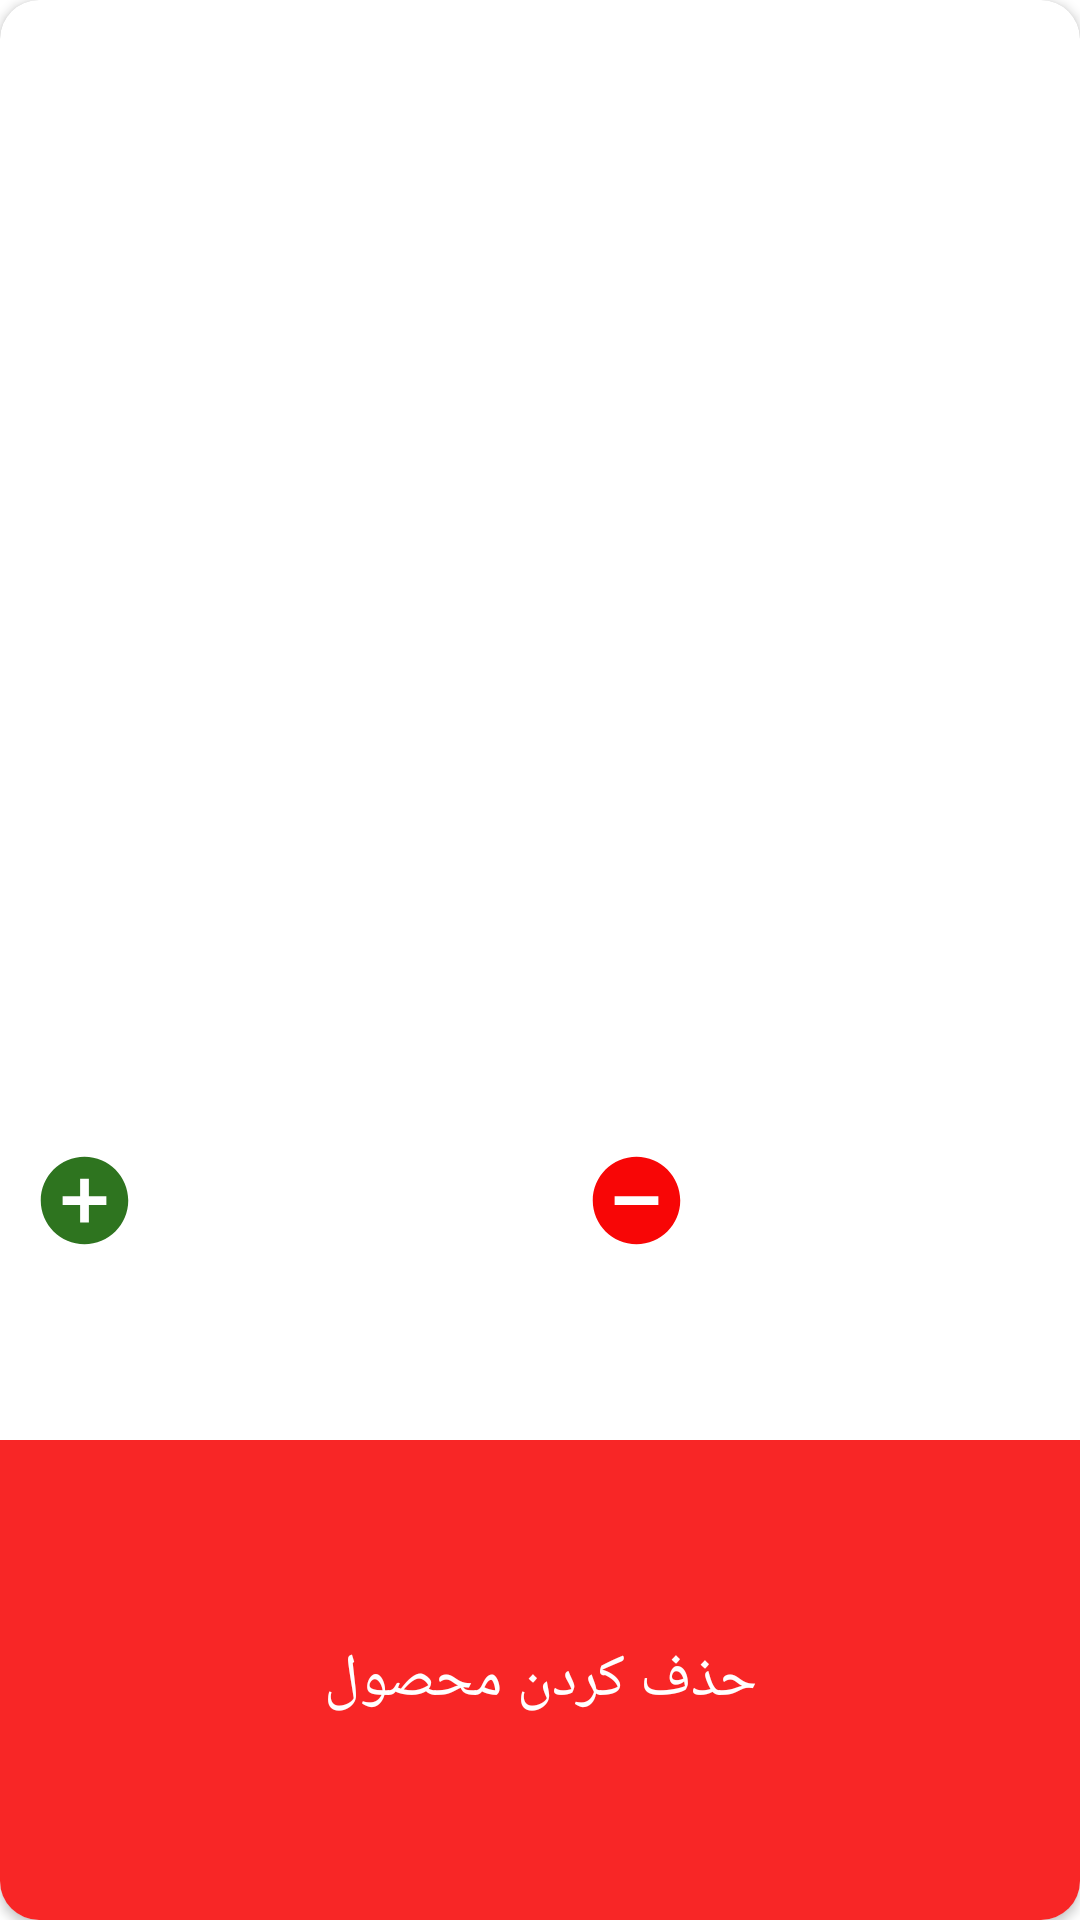

Icon click points for this 1080x1920 phone screenshot, format point (x, y):
add: point (84, 1200)
remove: point (636, 1200)
